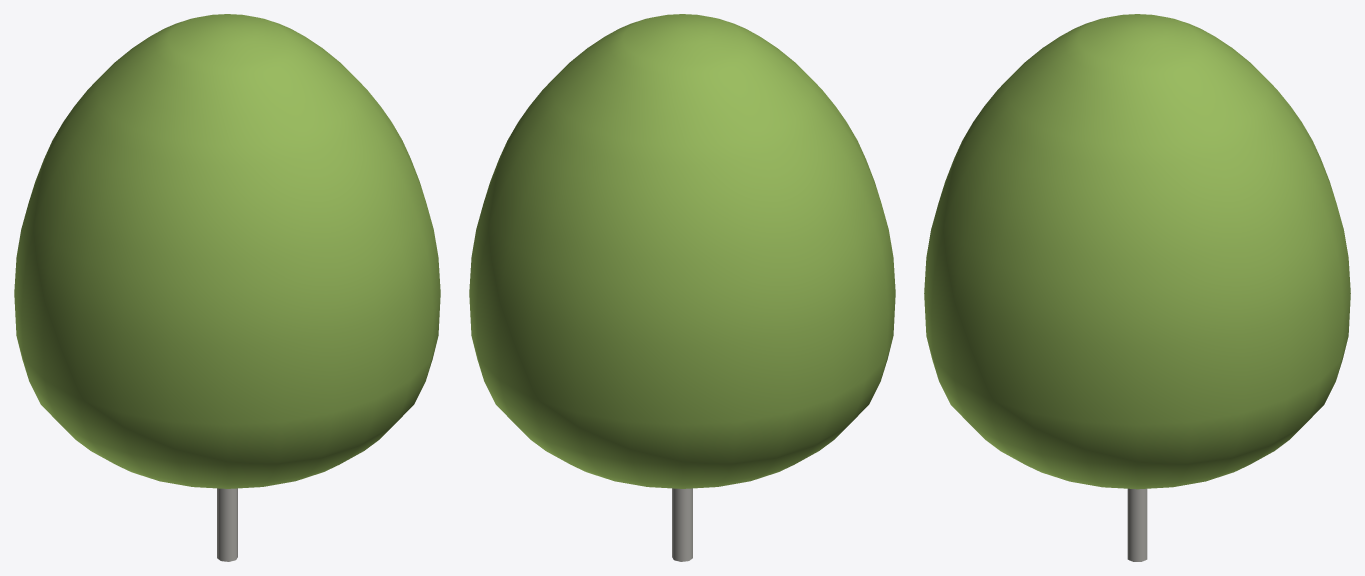
Rendered from FraxinusAmericana.glb.
3 renders of one model, left to right at view 1: azimuth 30°, elevation 25°; view 2: azimuth 150°, elevation 25°; view 3: azimuth 270°, elevation 25°, orthographic.
Parts seen in each view (by area): view 1: White_Ash__Schematic_LOD3; view 2: White_Ash__Schematic_LOD3; view 3: White_Ash__Schematic_LOD3.
Part boxes in pixels (x1,y1,x2,y2): White_Ash__Schematic_LOD3: (14,14,440,561); White_Ash__Schematic_LOD3: (469,14,895,561); White_Ash__Schematic_LOD3: (924,14,1350,561).
Size of the model in its own units: 18.64 by 25.49 by 18.64.
